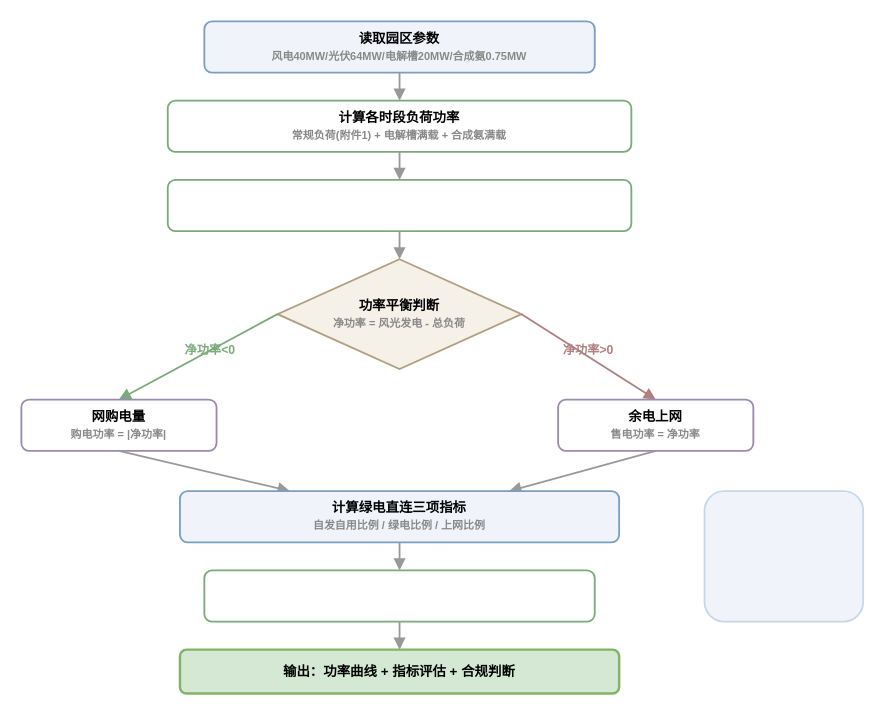
Image size: 886x716. Some labels were removed from this diagram. The shapes that lost their labels are listed below. From the top down, each one's centre as x and y in pixels, then its label:
At point (399, 205): "计算风光发电功率 风电标幺×40MW + 光伏标幺×64MW (附件2)".
At point (783, 556): "工具与方法 Python NumPy Pandas 数据处理 Matplotlib 绘图 功率平衡方程".
At point (399, 595): "计算吨氨成本 (购电费用 - 售电收入) / 日产氨量".
